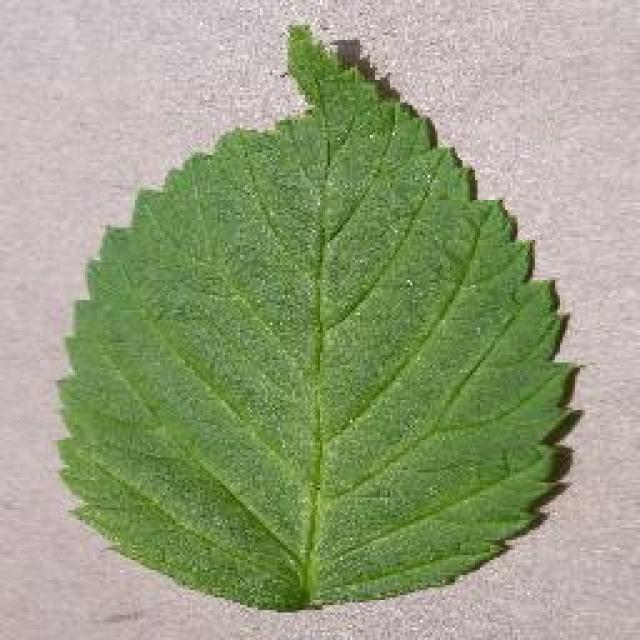Ras_healthy: (77, 79, 540, 565)
